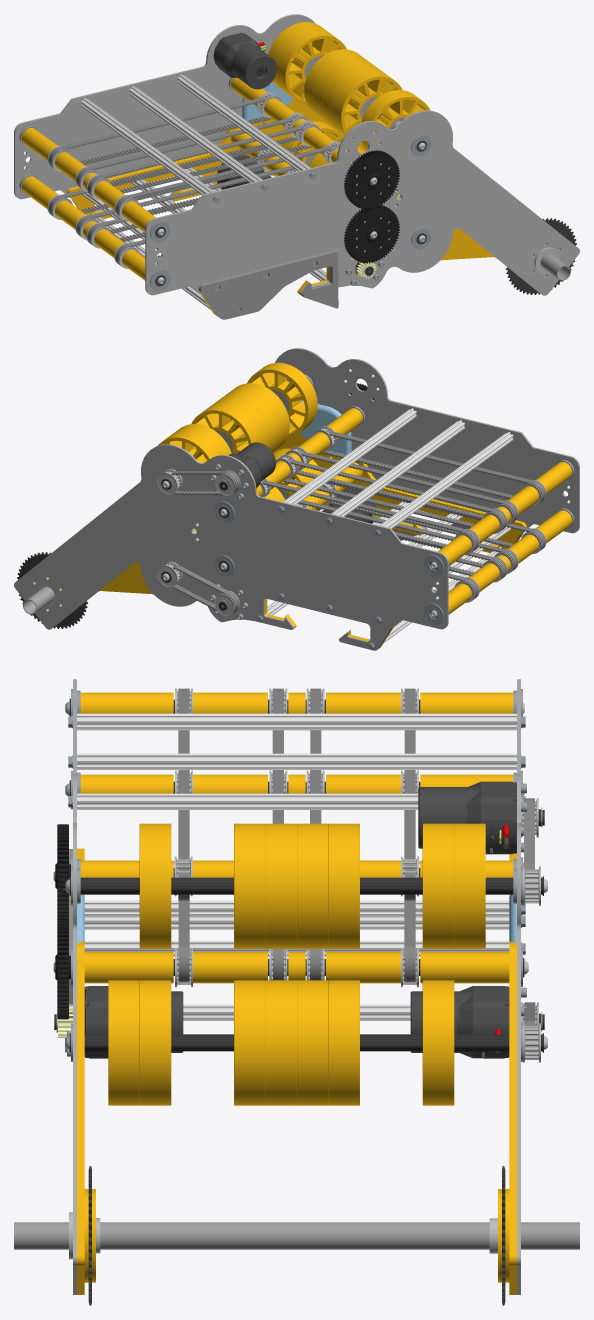
3 renders of one model, top to bottom at view 1: azimuth 30°, elevation 25°; view 2: azimuth 150°, elevation 25°; view 3: azimuth 270°, elevation 25°, orthographic. The views are drawn at different scales.
Visible parts, largest first — view 1: Part 1 (×17), 4IN Compliant Wheel FINAL Overmold (×8), 150T HTD Belt (×7), 1/2 Churro X 14" Long (×3), 64T 20DP Steel - 1/2" Hex Bore Gear (REV-21-1943) (×2), Neo Vortex/Spark Flex (REV-25-2844) (×2), 54t Plate 25 Chain Sprocket (217-2633), Tube, 1/2 Churro X 13.5" Long; view 2: Part 1 (×15), 150T HTD Belt (×7), 4IN Compliant Wheel FINAL Overmold (×7), 1/2 Churro X 14" Long (×3), Neo Vortex/Spark Flex (REV-25-2844) (×2), 50T HTD Belt (×2), 18t 9mm Wide 1/2" Hex Bore Double Flange 5mm HTD Aluminum Pu (×2), 54t Plate 25 Chain Sprocket (217-2633), Tube, 1/2 Churro X 13.5" Long; view 3: 4IN Compliant Wheel FINAL Overmold (×14), Part 1 (×17), 1/2 Churro X 14" Long (×3), Tube, Neo Vortex/Spark Flex (REV-25-2844) (×3), 1/2 Churro X 13.5" Long (×4), Shaft (×2), 150T HTD Belt (×6), 64T 20DP Steel - 1/2" Hex Bore Gear (REV-21-1943) (×2).
Part boxes in pixels (x1=…): Part 1 (×17): x1=14, y1=14, x2=579, y2=319; 4IN Compliant Wheel FINAL Overmold (×8): x1=268, y1=22, x2=430, y2=162; 150T HTD Belt (×7): x1=48, y1=96, x2=335, y2=245; 1/2 Churro X 14" Long (×3): x1=80, y1=74, x2=310, y2=194; 64T 20DP Steel - 1/2" Hex Bore Gear (REV-21-1943) (×2): x1=344, y1=150, x2=399, y2=263; Neo Vortex/Spark Flex (REV-25-2844) (×2): x1=213, y1=32, x2=276, y2=189; 54t Plate 25 Chain Sprocket (217-2633): x1=505, y1=218, x2=576, y2=294; Tube: x1=540, y1=253, x2=570, y2=280; 1/2 Churro X 13.5" Long: x1=92, y1=213, x2=210, y2=309; Part 1 (×15): x1=14, y1=348, x2=579, y2=650; 150T HTD Belt (×7): x1=261, y1=430, x2=545, y2=579; 4IN Compliant Wheel FINAL Overmold (×7): x1=158, y1=362, x2=317, y2=462; 1/2 Churro X 14" Long (×3): x1=283, y1=408, x2=513, y2=528; Neo Vortex/Spark Flex (REV-25-2844) (×2): x1=229, y1=442, x2=381, y2=523; 50T HTD Belt (×2): x1=171, y1=471, x2=239, y2=613; 18t 9mm Wide 1/2" Hex Bore Double Flange 5mm HTD Aluminum Pu (×2): x1=157, y1=469, x2=182, y2=587; 54t Plate 25 Chain Sprocket (217-2633): x1=17, y1=552, x2=88, y2=628; Tube: x1=23, y1=586, x2=54, y2=614; 1/2 Churro X 13.5" Long: x1=383, y1=547, x2=501, y2=643; 4IN Compliant Wheel FINAL Overmold (×14): x1=108, y1=823, x2=485, y2=1105; Part 1 (×17): x1=73, y1=679, x2=520, y2=1294; 1/2 Churro X 14" Long (×3): x1=77, y1=713, x2=516, y2=809; Tube: x1=14, y1=1222, x2=579, y2=1249; Neo Vortex/Spark Flex (REV-25-2844) (×3): x1=84, y1=781, x2=516, y2=1058; 1/2 Churro X 13.5" Long (×4): x1=84, y1=900, x2=509, y2=1020; Shaft (×2): x1=65, y1=876, x2=547, y2=1052; 150T HTD Belt (×6): x1=178, y1=688, x2=415, y2=981; 64T 20DP Steel - 1/2" Hex Bore Gear (REV-21-1943) (×2): x1=55, y1=824, x2=70, y2=1019.
Bounding box in the file's own units: 0.6881 × 0.3307 × 0.4572.
